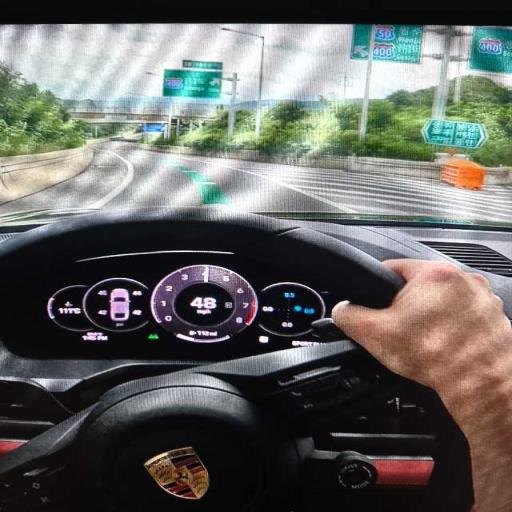car: (0, 2, 511, 511), (110, 289, 130, 321)
lane: (0, 142, 511, 220), (104, 143, 339, 211)
person: (332, 260, 511, 511)
